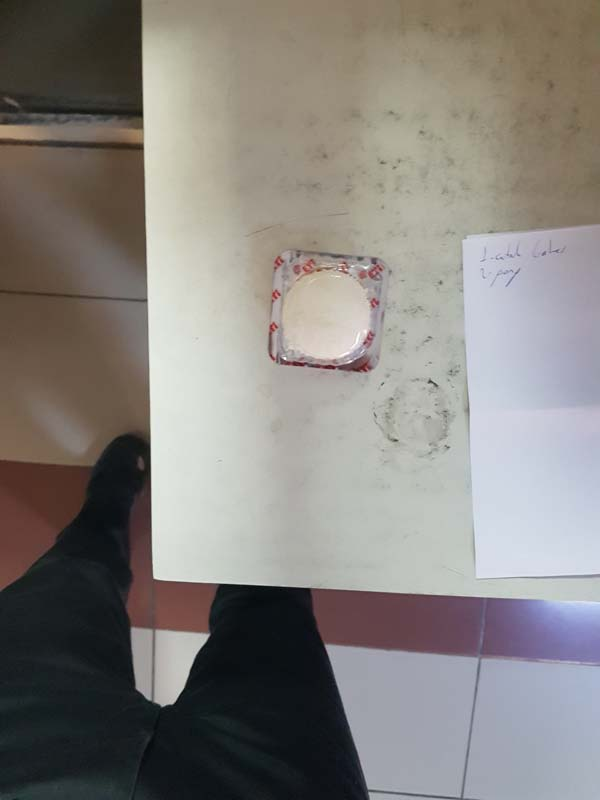etipuf: (264, 241, 394, 384)
